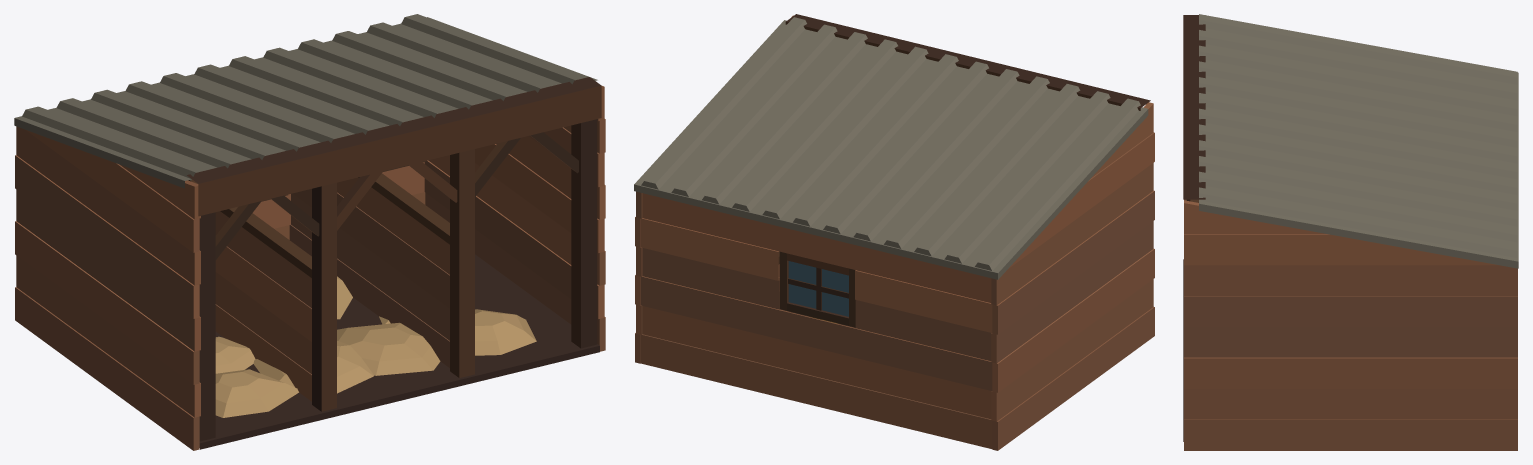
File: open-stable-dbf2d5.glb
3 renders of one model, left to right at view 1: azimuth 30°, elevation 25°; view 2: azimuth 150°, elevation 25°; view 3: azimuth 270°, elevation 25°, orthographic. The views are drawn at different scales.
Visible parts, largest first — view 1: stable-shell, straw; view 2: stable-shell; view 3: stable-shell.
Boxes of the visible parts, x1,y1,x2,y2 form: stable-shell: [14, 14, 605, 450]; straw: [215, 276, 536, 417]; stable-shell: [634, 14, 1154, 450]; stable-shell: [1183, 14, 1518, 450].
Bounding box in the file's own units: 4 × 2.5 × 3.
